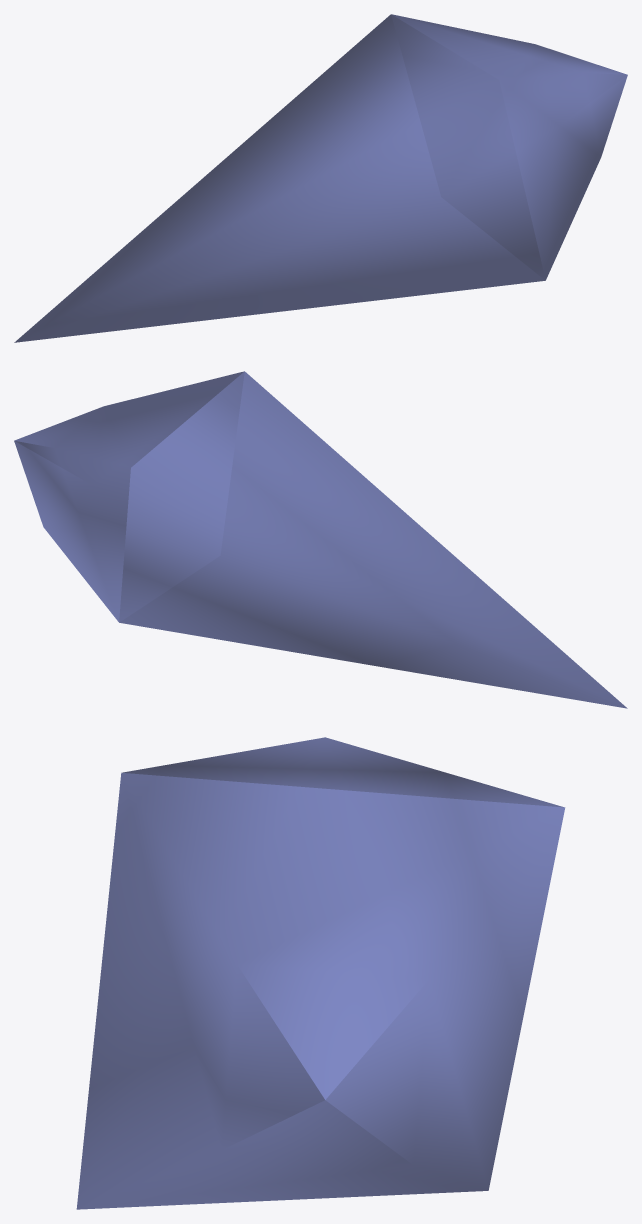
Rendered from Crystal Shard.fbx.
The picture shows the model from 3 angles, top to bottom: view 1: azimuth 30°, elevation 25°; view 2: azimuth 150°, elevation 25°; view 3: azimuth 270°, elevation 25°; orthographic projection. The views are drawn at different scales.
Visible parts, largest first — view 1: pPyramid1; view 2: pPyramid1; view 3: pPyramid1.
Boxes of the visible parts, x1,y1,x2,y2 form: pPyramid1: (14,14,627,342); pPyramid1: (14,371,627,708); pPyramid1: (76,737,565,1209).
Size of the model in its own units: 6.85 by 2.14 by 2.36.
